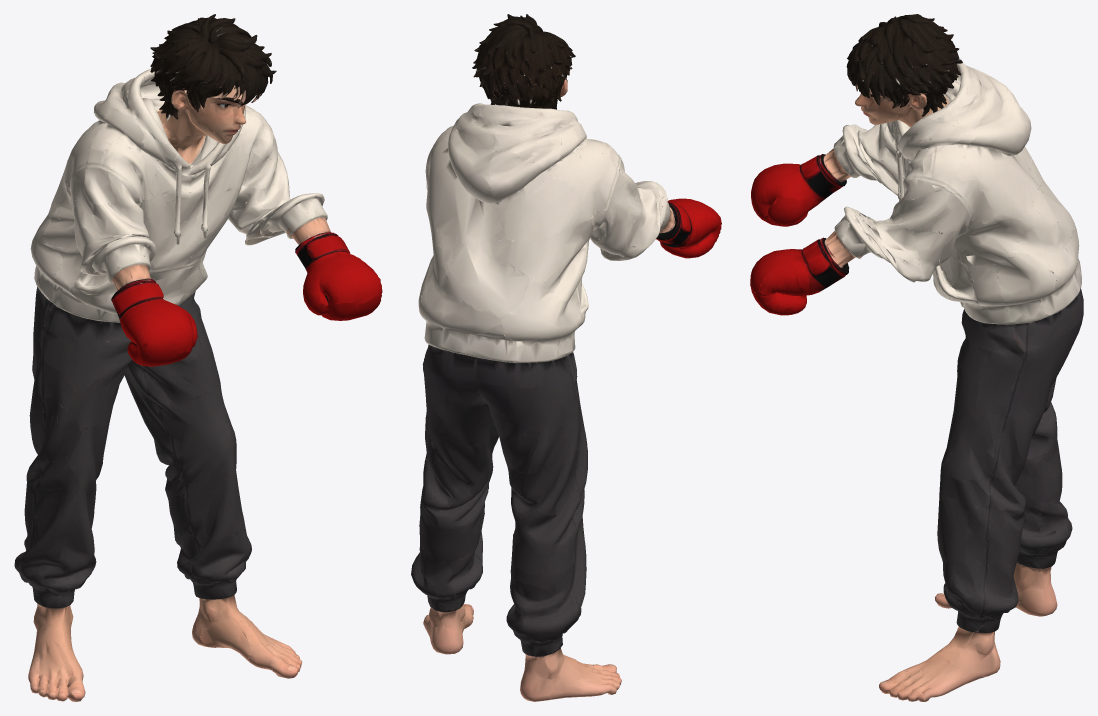
File: resting.glb
The picture shows the model from 3 angles, left to right: view 1: azimuth 30°, elevation 25°; view 2: azimuth 150°, elevation 25°; view 3: azimuth 270°, elevation 25°; orthographic projection. The views are drawn at different scales.
Visible parts, largest first — view 1: CH_BalconyRest; view 2: CH_BalconyRest; view 3: CH_BalconyRest.
Part boxes in pixels (x1,y1,x2,y2): CH_BalconyRest: (14,14,382,701); CH_BalconyRest: (411,14,721,701); CH_BalconyRest: (750,14,1083,701).
Bounding box in the file's own units: 0.6558 × 1.72 × 0.8093.
Materials: 1 (1 with a texture image).
